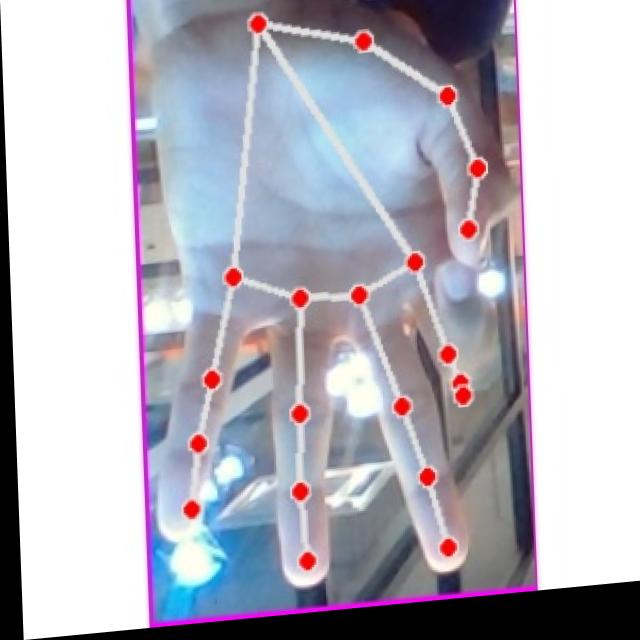F: (138, 0, 515, 610)
